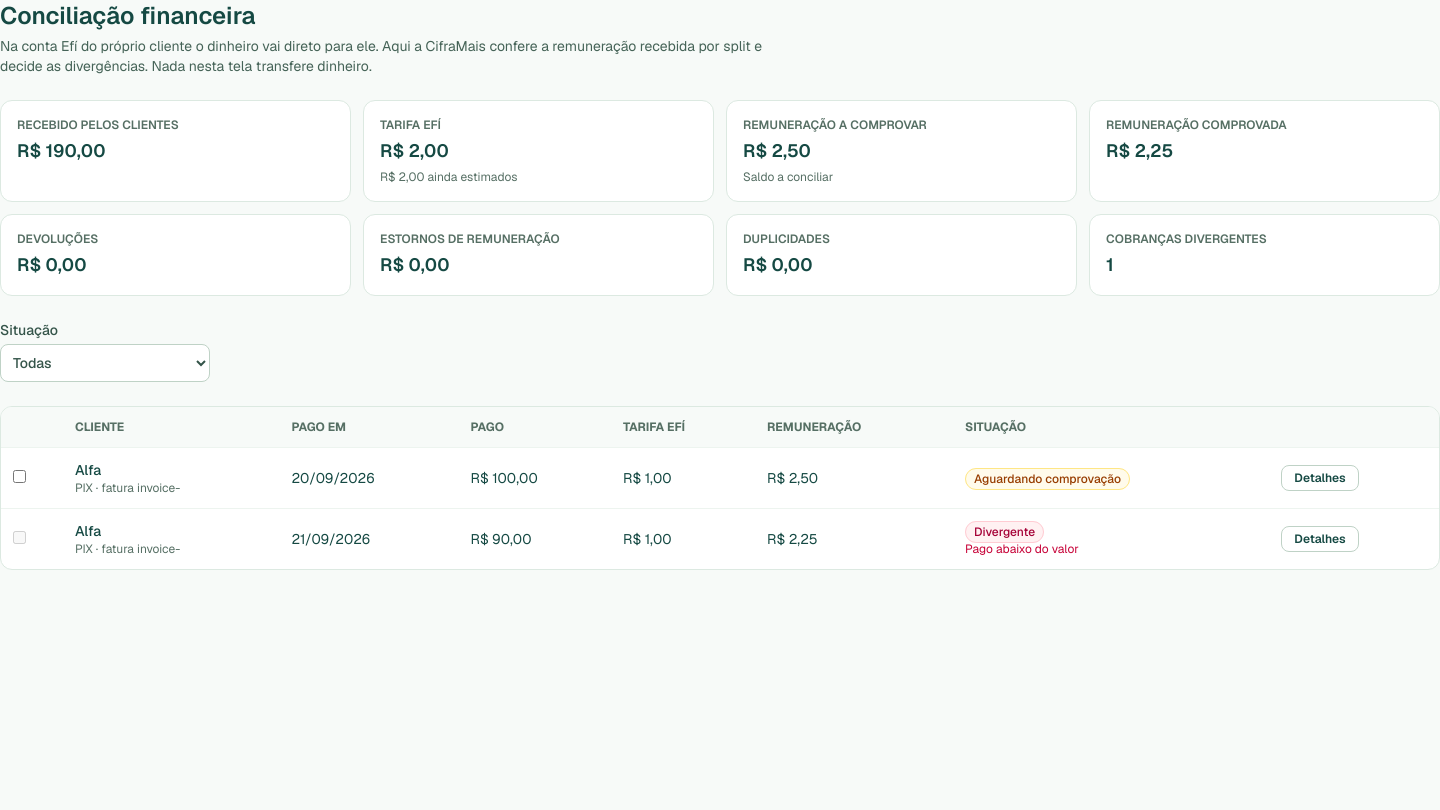
Test: selects only settlements awaiting evidence and sends the statement in cents
This screenshot has width=1440, height=810.
Expected: the checkbox named "Selecionar cobrança" is disabled, [13, 531, 26, 544]
Click the checkbox named "Selecionar cobrança" at (20, 476), box [13, 470, 26, 483]
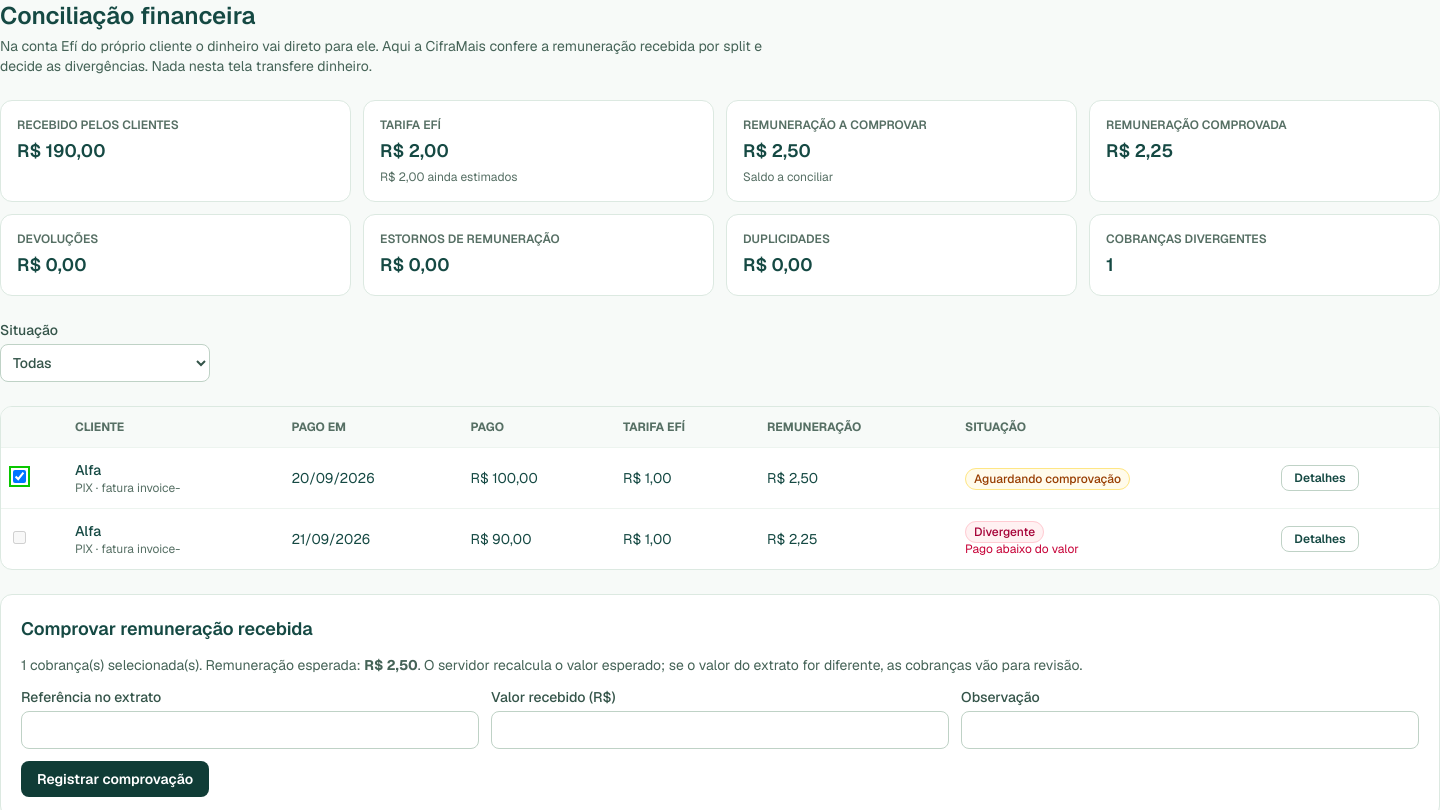
Expected: the text "R$ 2,50" below "Comprovar remuneração recebida" is shown, [364, 656, 418, 674]
Type "extrato-1" into the field labelled "Referência no extrato" at (250, 730), box [21, 711, 479, 749]
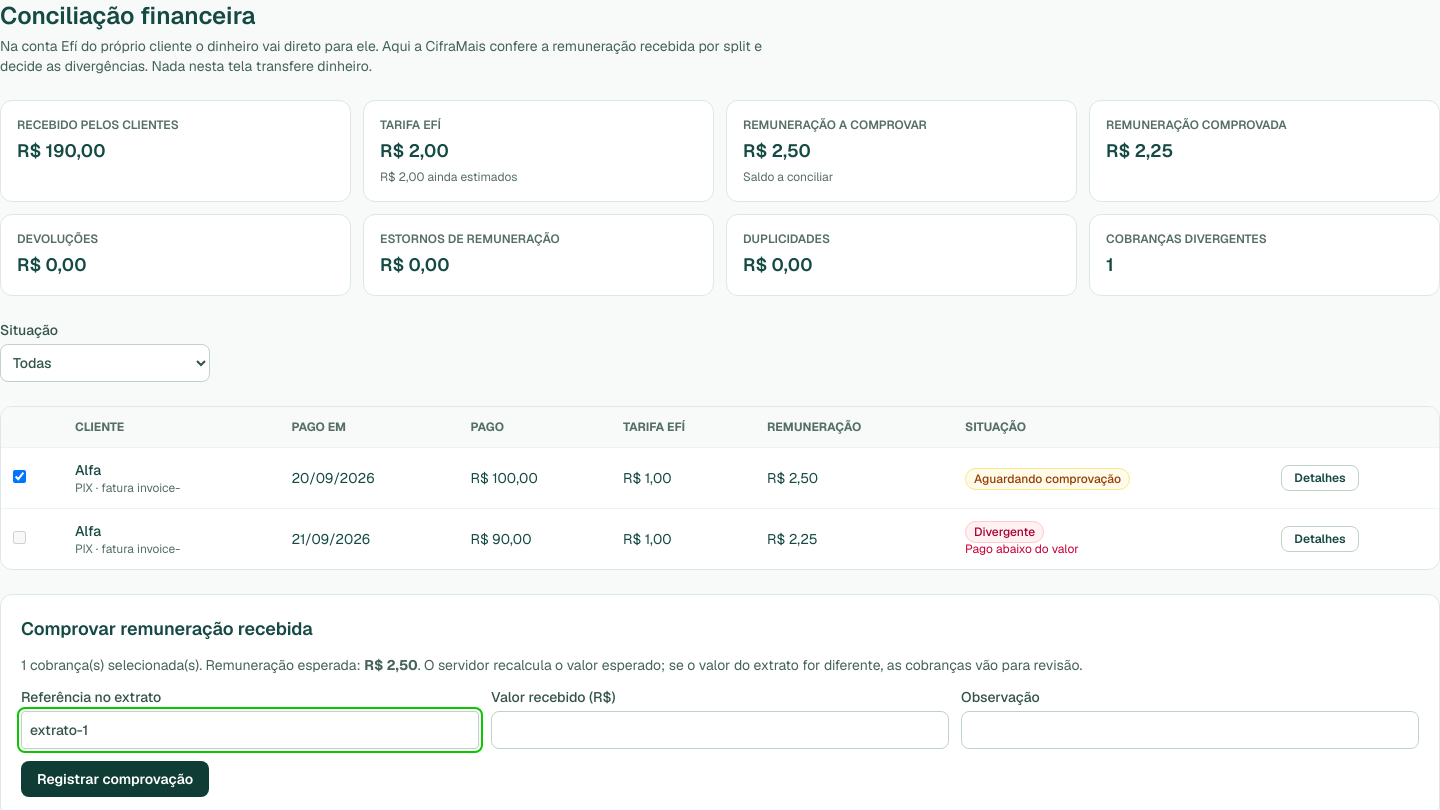
Type "2,50" into the field labelled "Valor recebido (R$)" at (720, 730), box [491, 711, 949, 749]
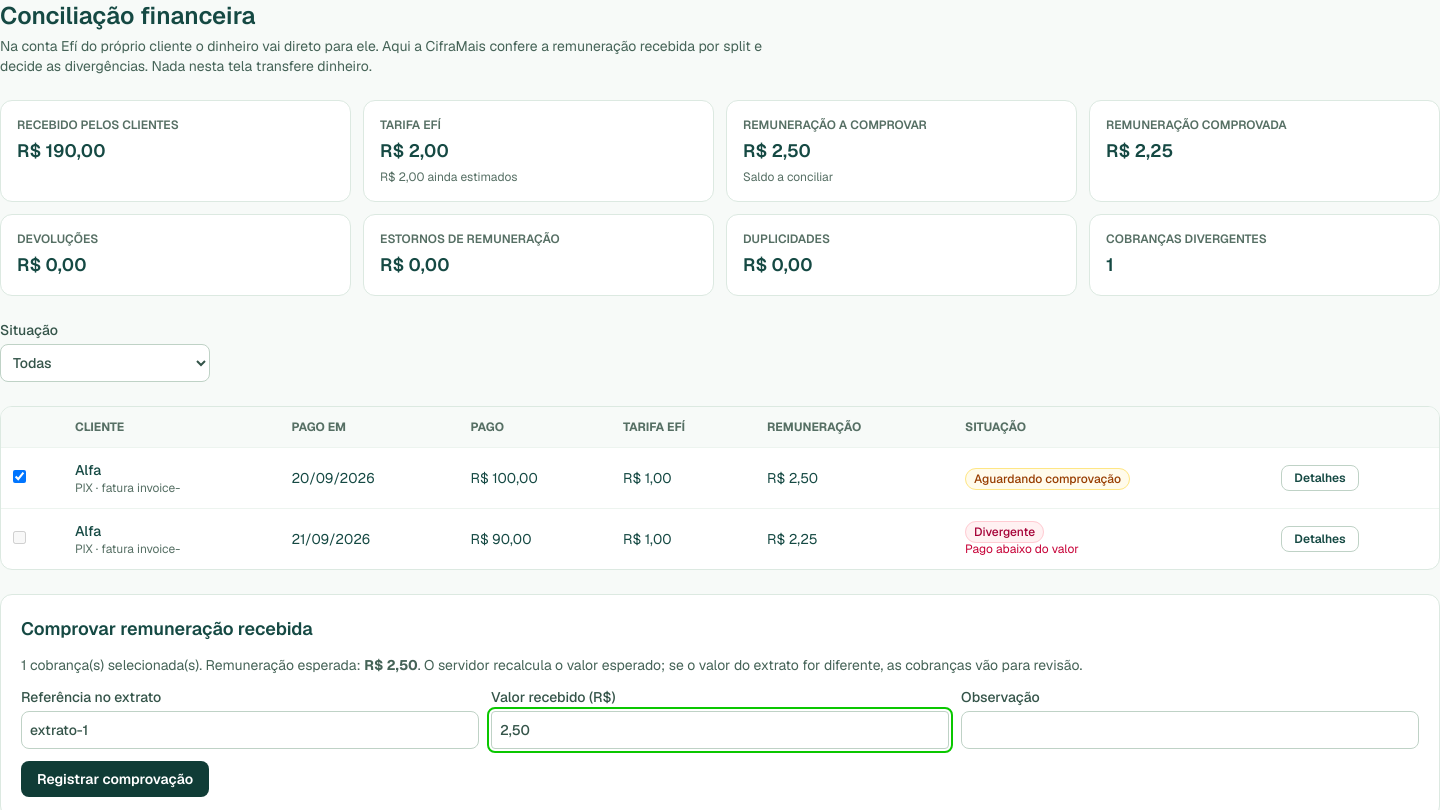
Click the button "Registrar comprovação" at (115, 779), box [21, 761, 209, 797]
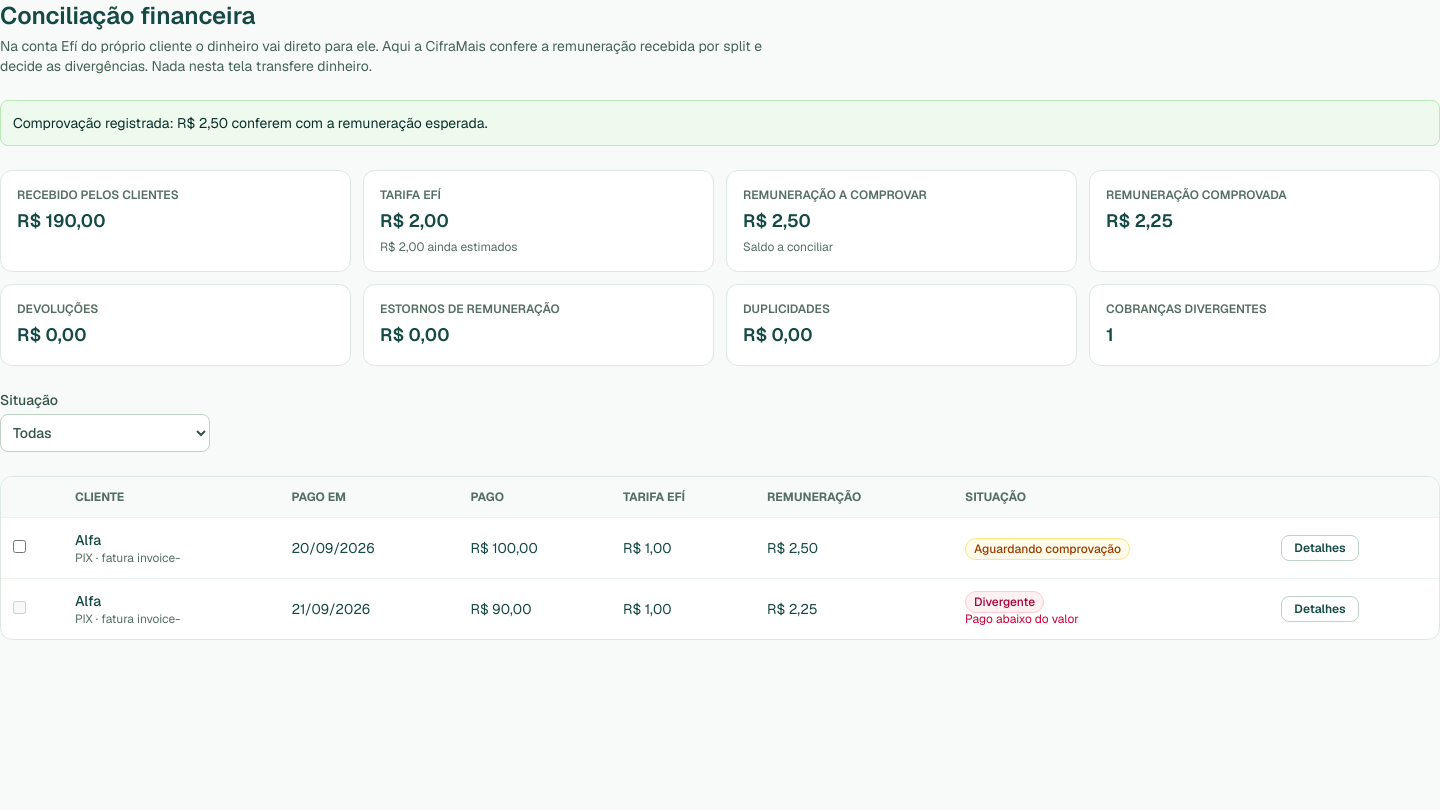
Expected: the message shows "conferem com a remuneração esperada", [13, 114, 488, 132]
